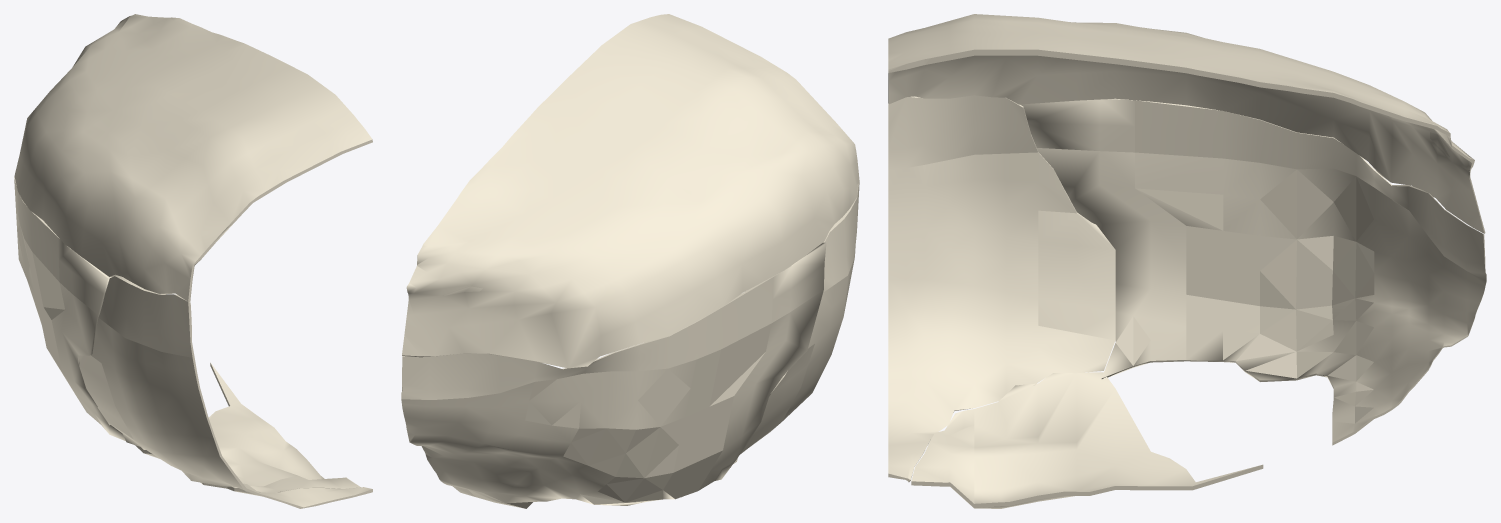
Rendered from OssHalfRough.FBX.
3 renders of one model, left to right at view 1: azimuth 30°, elevation 25°; view 2: azimuth 150°, elevation 25°; view 3: azimuth 270°, elevation 25°, orthographic. The views are drawn at different scales.
Visible parts, largest first — view 1: osFrontale, osZygomaticum, osSphenoildale, osMaxilla; view 2: osFrontale, osSphenoildale, osZygomaticum; view 3: osSphenoildale, osZygomaticum, osFrontale, osMaxilla.
Boxes of the visible parts, x1,y1,x2,y2 form: osFrontale: [14, 14, 372, 301]; osZygomaticum: [77, 275, 372, 508]; osSphenoildale: [14, 177, 165, 440]; osMaxilla: [135, 362, 360, 496]; osFrontale: [402, 14, 859, 368]; osSphenoildale: [401, 242, 826, 508]; osZygomaticum: [730, 182, 859, 467]; osSphenoildale: [1020, 98, 1486, 445]; osZygomaticum: [888, 95, 1115, 482]; osFrontale: [888, 14, 1485, 233]; osMaxilla: [911, 372, 1263, 508].
Bounding box in the file's own units: 0.7381 × 1.33 × 1.56.
